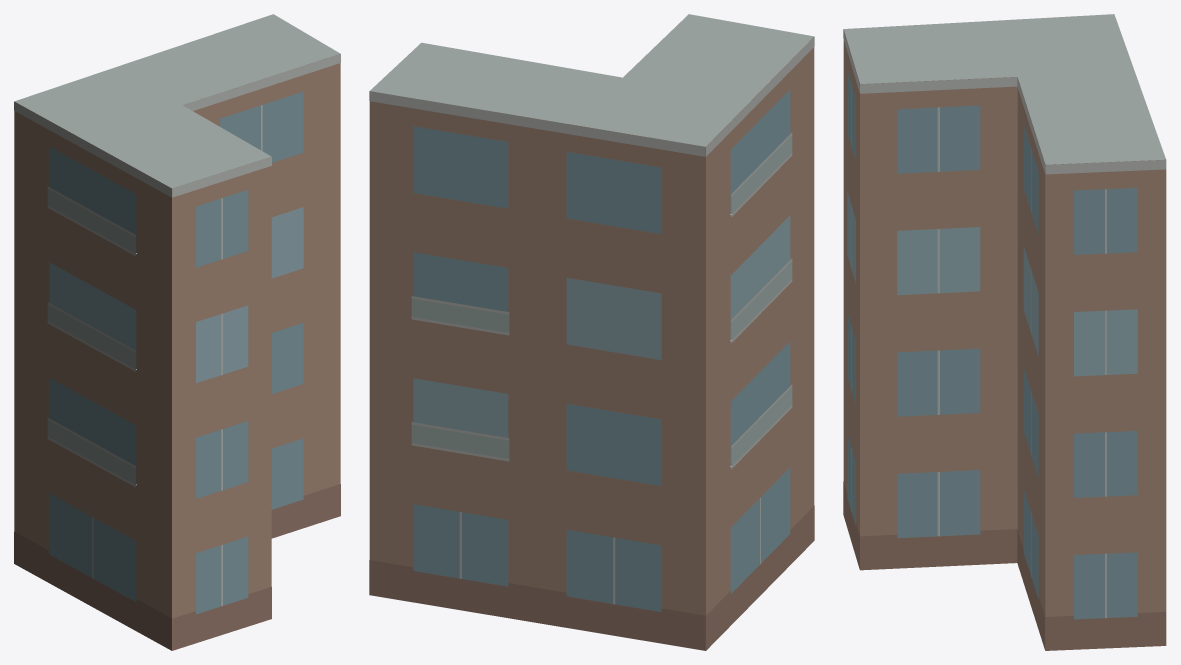
The model's file is survey-upis-32784398.glb.
3 renders of one model, left to right at view 1: azimuth 30°, elevation 25°; view 2: azimuth 150°, elevation 25°; view 3: azimuth 270°, elevation 25°, orthographic. The views are drawn at different scales.
Parts seen in each view (by area): view 1: survey-upis-32784398.tmp; view 2: survey-upis-32784398.tmp; view 3: survey-upis-32784398.tmp.
Boxes of the visible parts, x1,y1,x2,y2 form: survey-upis-32784398.tmp: (14,14,340,650); survey-upis-32784398.tmp: (369,14,814,650); survey-upis-32784398.tmp: (843,14,1166,650).
Size of the model in its own units: 8.12 by 12.2 by 7.35.
